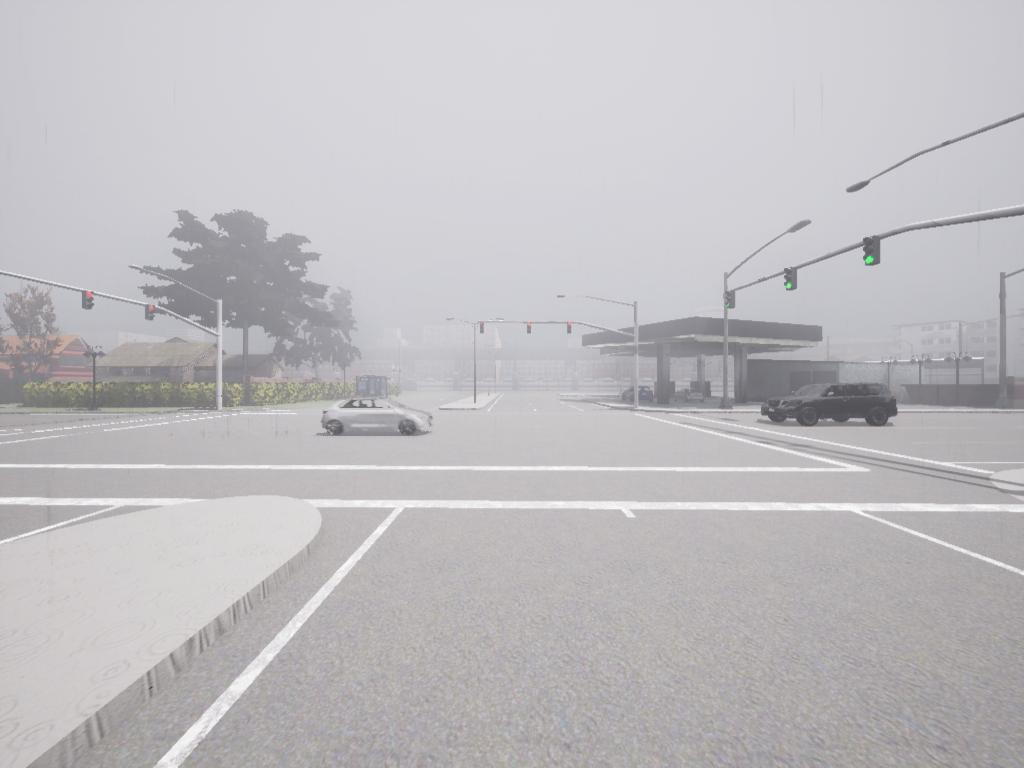traffic_light: (865, 237, 882, 266), (783, 270, 798, 292), (81, 290, 95, 310), (724, 290, 737, 311), (86, 291, 97, 310), (148, 308, 158, 323), (480, 320, 487, 338), (568, 323, 575, 339), (524, 323, 532, 336), (527, 323, 534, 335)
